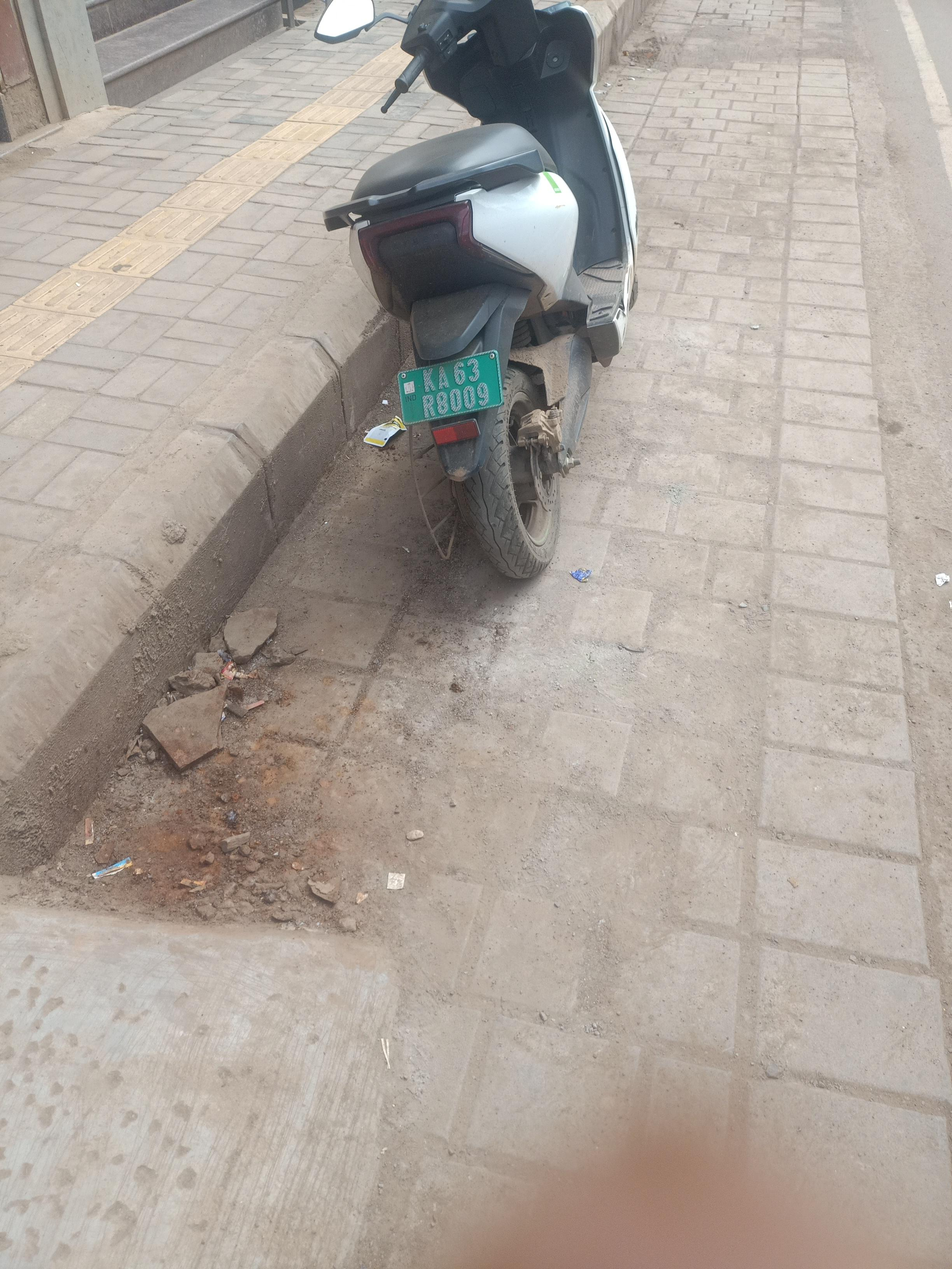green license plate: (388, 348, 509, 418)
